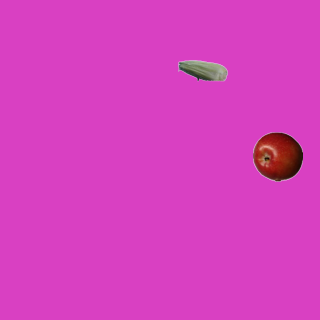Apple Braeburn: (252, 131, 302, 181)
Corn Husk: (177, 45, 227, 95)
